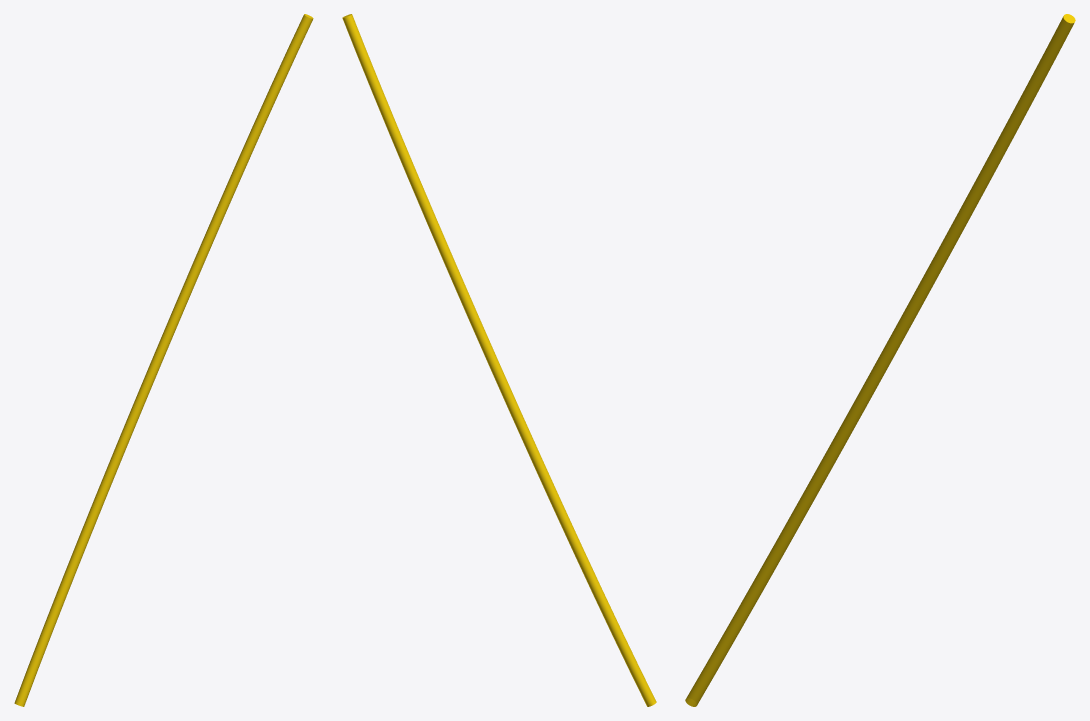
File: Event_421127236_track_8.fbx
3 renders of one model, left to right at view 1: azimuth 30°, elevation 25°; view 2: azimuth 150°, elevation 25°; view 3: azimuth 330°, elevation 25°, orthographic. The views are drawn at different scales.
Visible parts, largest first — view 1: Model; view 2: Model; view 3: Model.
Part boxes in pixels (bbox=[...]): Model: bbox=[14, 14, 313, 706]; Model: bbox=[342, 14, 656, 706]; Model: bbox=[685, 14, 1075, 706].
Size of the model in its own units: 1.35 by 2.62 by 0.1066.
